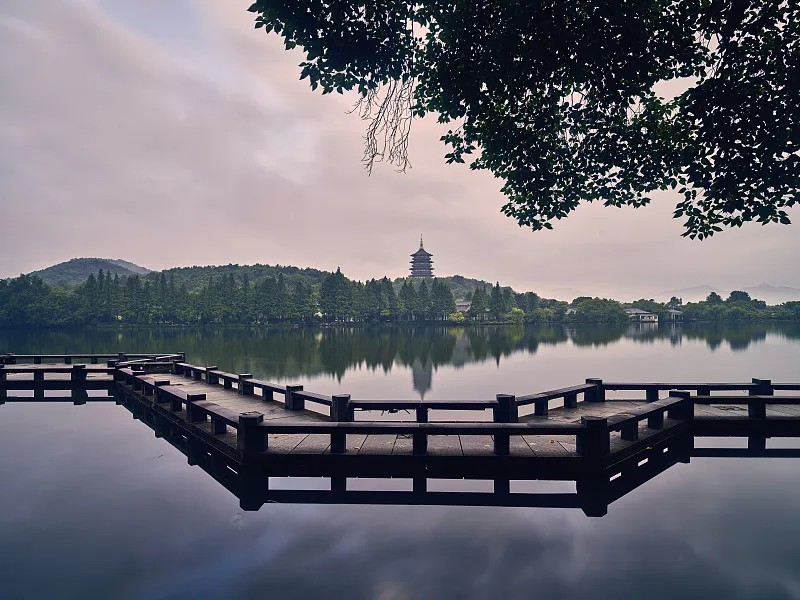Leifeng: (405, 232, 437, 283)
